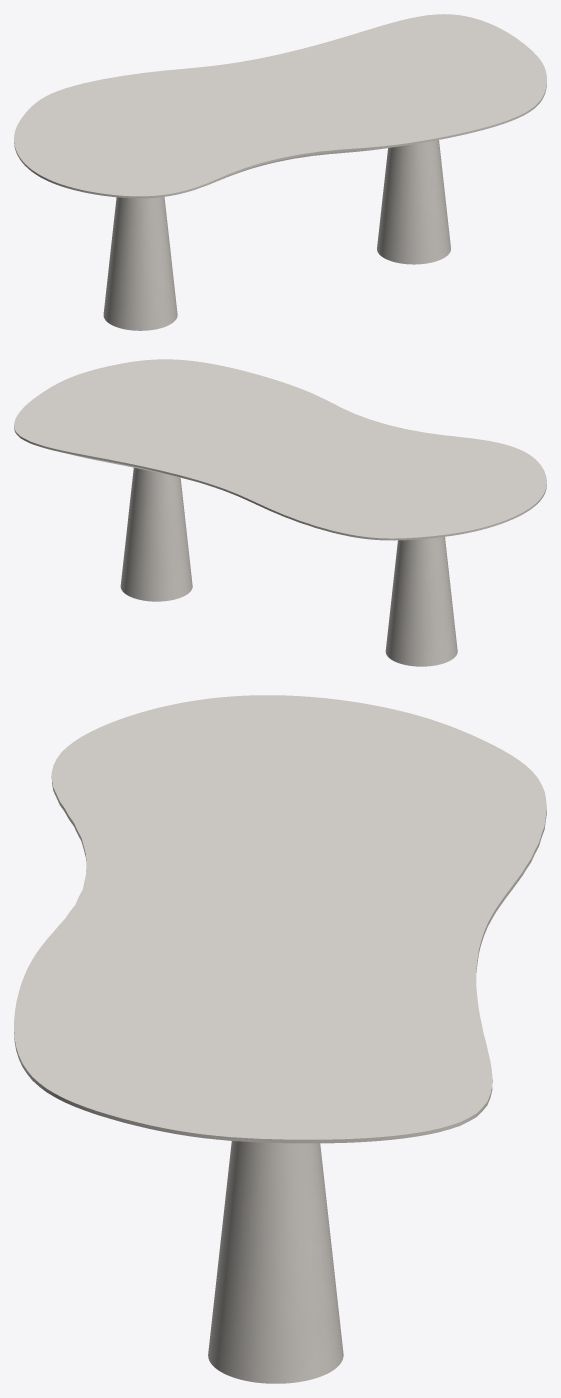
Rendered from pearlwhite_wave_facet_pebble.glb.
3 renders of one model, top to bottom at view 1: azimuth 30°, elevation 25°; view 2: azimuth 150°, elevation 25°; view 3: azimuth 270°, elevation 25°, orthographic. The views are drawn at different scales.
Parts seen in each view (by area): view 1: facet_wave, pebble; view 2: facet_wave, pebble; view 3: facet_wave, pebble.
Boxes of the visible parts, left/top/right/bottom form: facet_wave: left=14, top=14, right=546, bottom=198; pebble: left=103, top=140, right=450, bottom=330; facet_wave: left=14, top=359, right=546, bottom=540; pebble: left=120, top=467, right=457, bottom=666; facet_wave: left=14, top=695, right=546, bottom=1143; pebble: left=208, top=1141, right=343, bottom=1383.
Size of the model in its own units: 7.5 by 2.5 by 3.8.
Materials: 1 (1 with a texture image).
